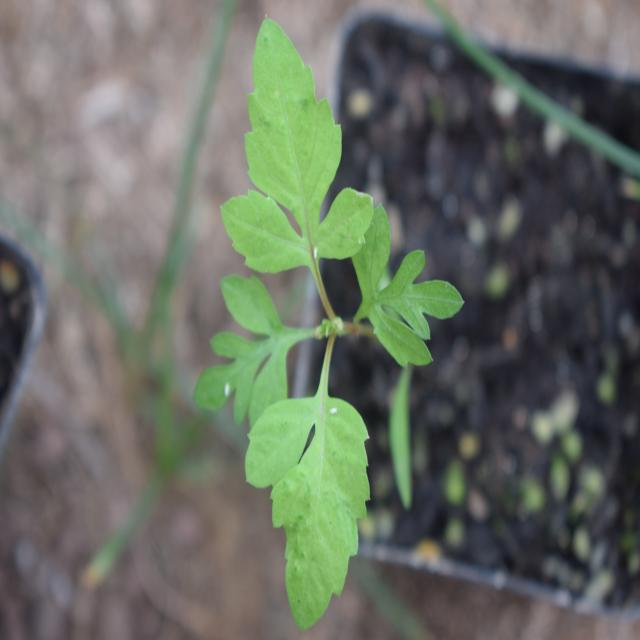Bidens pilosa: (205, 24, 453, 630)
